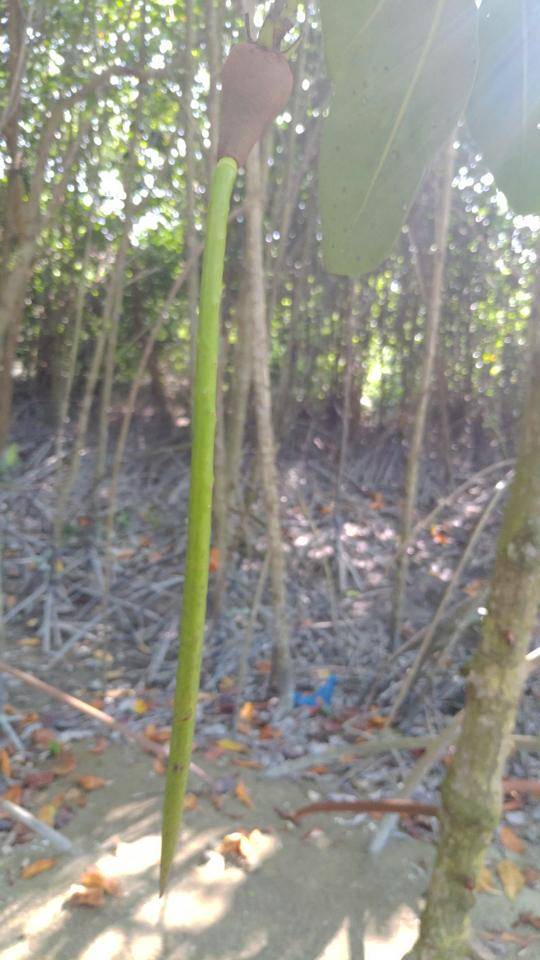setengah matang: (149, 18, 302, 903)
